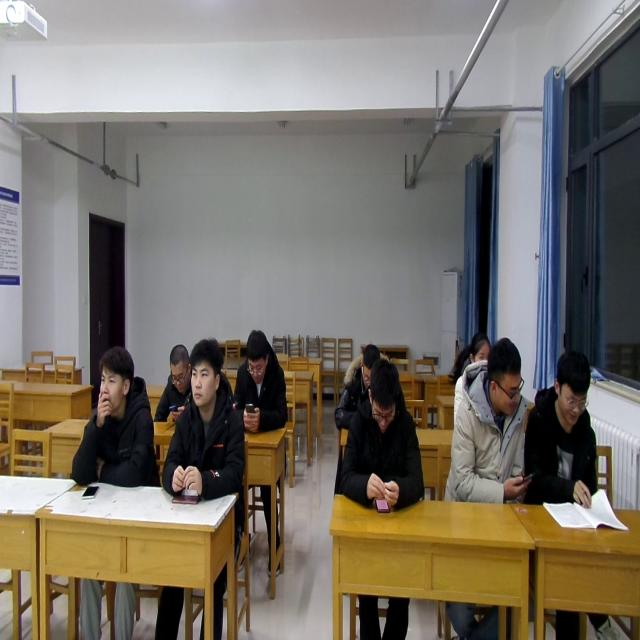bow: (230, 328, 290, 434), (333, 342, 387, 433)
down: (553, 346, 594, 429), (364, 359, 400, 434), (240, 324, 272, 385), (166, 342, 192, 394), (358, 340, 379, 388)
lookup: (95, 342, 138, 412), (186, 337, 226, 412), (464, 331, 492, 368)
sit: (443, 335, 526, 505), (162, 338, 247, 502), (340, 355, 426, 510), (520, 344, 600, 508), (72, 344, 160, 490), (152, 341, 193, 425)
